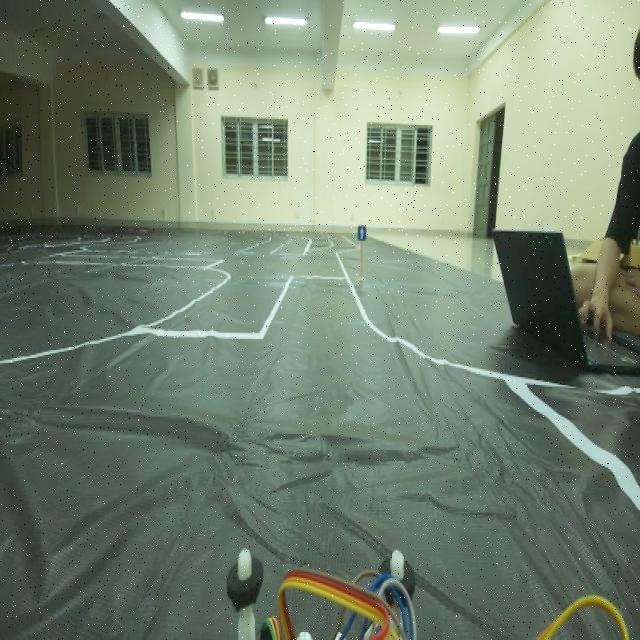onewayroad: (354, 216, 372, 246)
